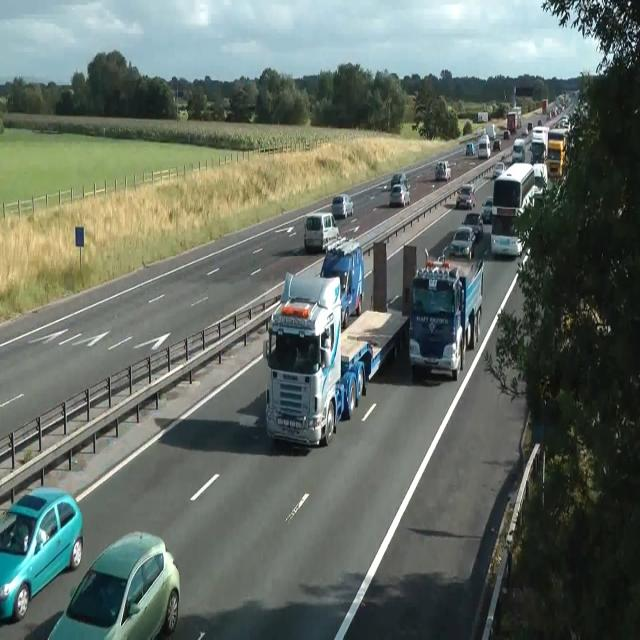bus: (424, 247, 450, 273), (461, 211, 483, 241), (332, 194, 354, 218), (388, 183, 410, 207), (456, 184, 476, 209), (435, 160, 451, 181), (481, 196, 493, 223), (391, 172, 409, 190), (492, 161, 506, 179), (466, 142, 476, 156), (492, 139, 502, 151), (178, 108, 188, 118), (504, 130, 510, 140), (521, 128, 527, 136)
car: (408, 247, 484, 381), (490, 161, 536, 258)
jeep: (47, 530, 180, 638), (0, 484, 83, 622), (303, 210, 339, 252), (449, 225, 475, 259), (475, 134, 491, 158), (511, 138, 525, 162)
minibus: (262, 270, 410, 447), (319, 236, 364, 328), (486, 123, 502, 151), (507, 112, 517, 132), (478, 111, 488, 123)
